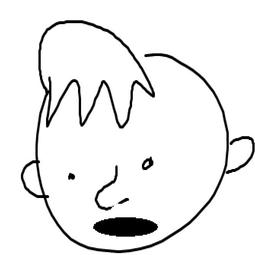ear: (211, 130, 255, 176), (16, 158, 47, 201)
open_mouth: (90, 213, 159, 238)
small_eye: (92, 161, 133, 211), (136, 155, 156, 171), (66, 169, 78, 183)
